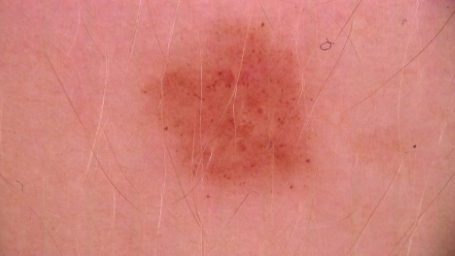melanoma: (147, 32, 311, 182)
